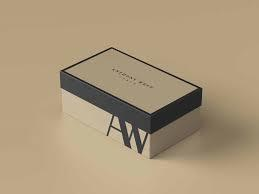box: (61, 46, 203, 160)
